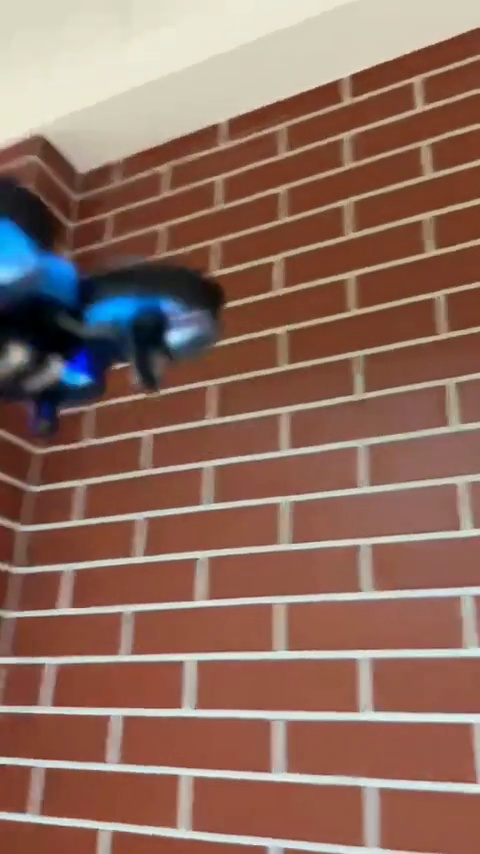drone: (0, 185, 224, 435)
